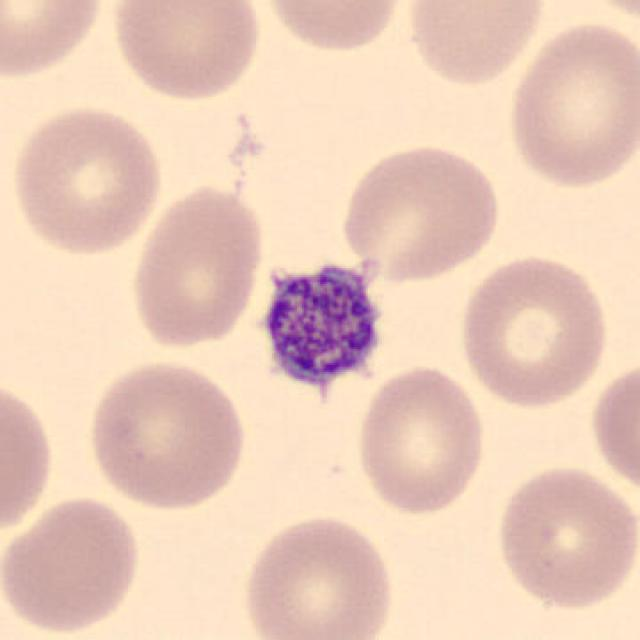Platelets: (247, 247, 398, 416)
RBC: (82, 356, 250, 513), (455, 248, 613, 411), (336, 138, 505, 288), (7, 101, 167, 259), (126, 180, 270, 352), (502, 16, 638, 192), (491, 460, 638, 614), (352, 362, 491, 518), (236, 509, 398, 640), (0, 492, 146, 636), (107, 0, 265, 104), (400, 0, 551, 88), (0, 372, 57, 543), (0, 0, 108, 83), (258, 0, 409, 55), (587, 352, 638, 500), (570, 0, 640, 28)
